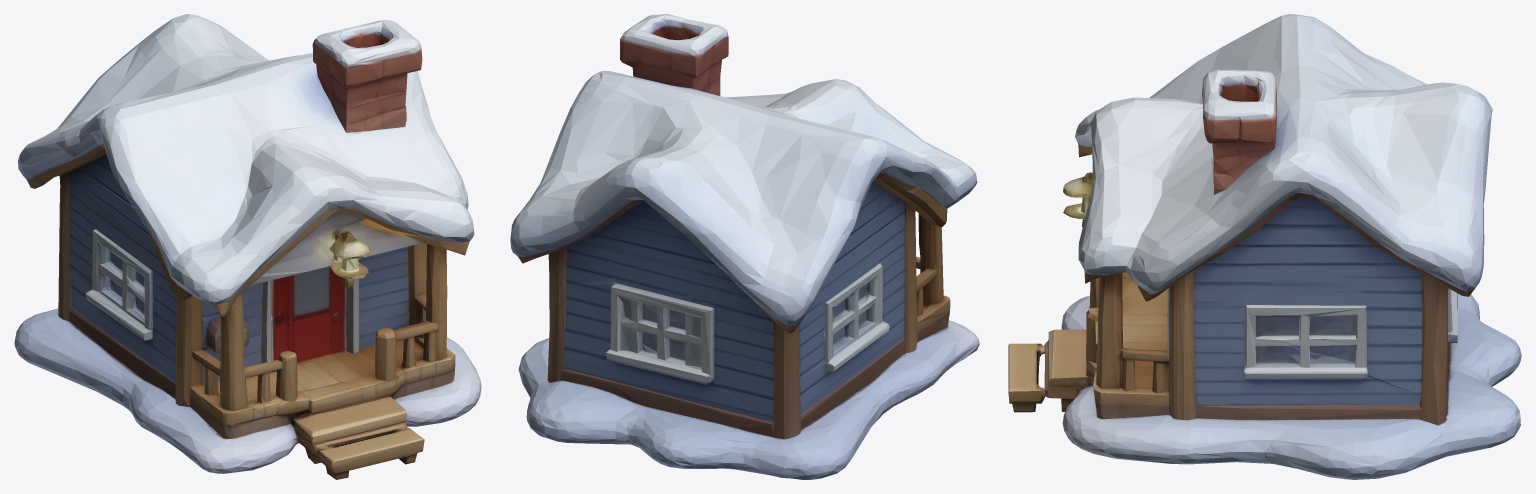
The model's file is house_snow.glb.
3 renders of one model, left to right at view 1: azimuth 30°, elevation 25°; view 2: azimuth 150°, elevation 25°; view 3: azimuth 270°, elevation 25°, orthographic. The views are drawn at different scales.
Visible parts, largest first — view 1: geometry_0; view 2: geometry_0; view 3: geometry_0.
Boxes of the visible parts, <box> form: geometry_0: <box>14,14,481,479</box>; geometry_0: <box>510,14,979,479</box>; geometry_0: <box>1008,14,1521,479</box>.
Bounding box in the file's own units: 0.839 × 0.7629 × 0.9952.
1 material, 1 textured.
